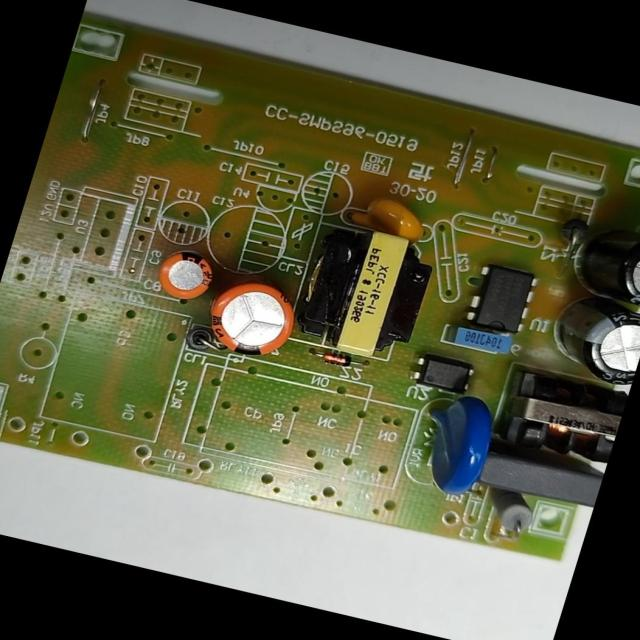Cap1: (197, 272, 307, 365)
Cap2: (150, 245, 220, 306)
Cap3: (538, 294, 640, 390)
Cap4: (564, 216, 640, 315)
MOSFET: (459, 264, 538, 336)
Mov: (406, 387, 502, 504)
Resistor: (478, 486, 543, 540)
Transformer: (290, 220, 442, 370), (501, 368, 628, 469)
